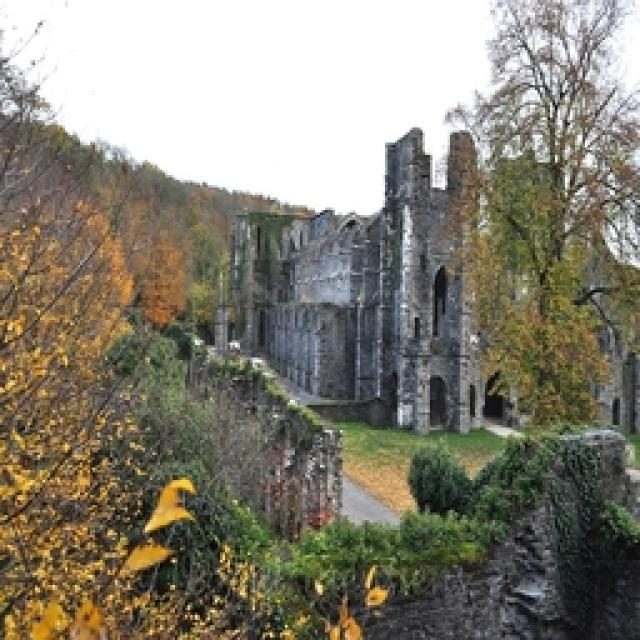Abbey: (217, 136, 596, 446)
